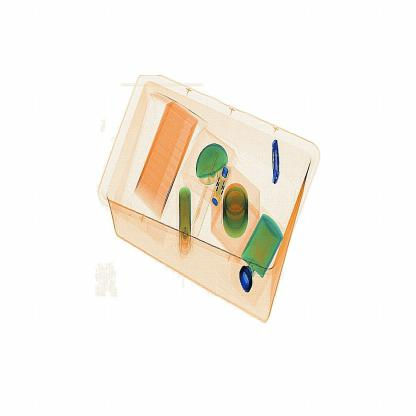knife: (270, 129, 292, 191)
